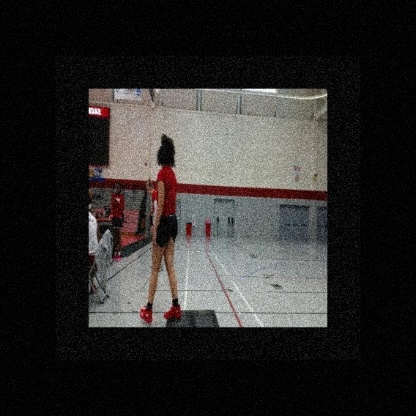lateral_flexion_right: (138, 133, 182, 327)
stance_width_broad: (139, 166, 182, 327)
